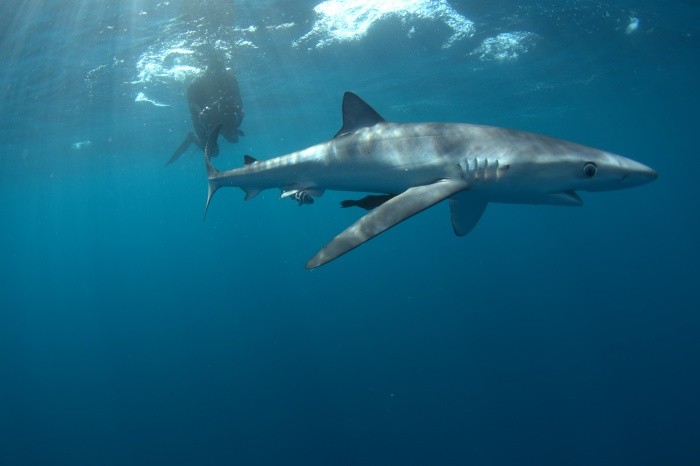Azul: (195, 58, 674, 295)
